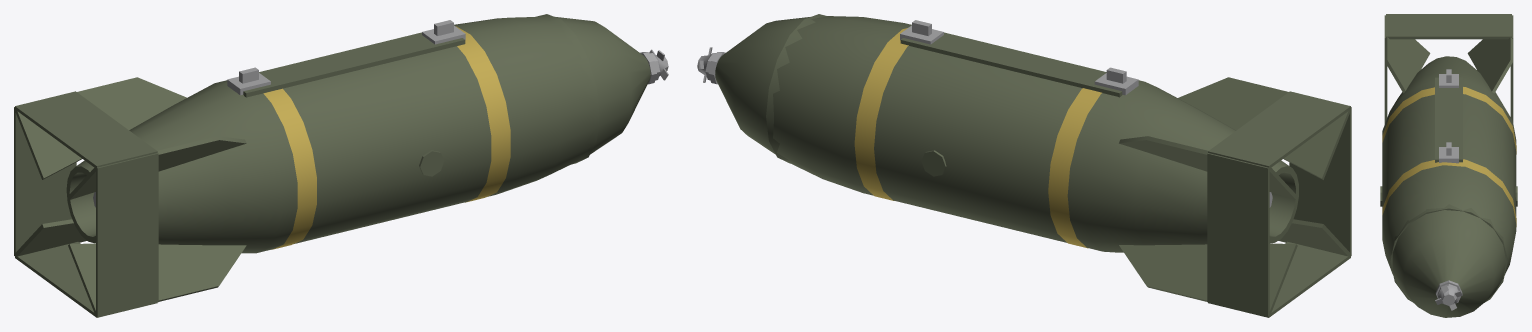
The model's file is bombs_4.glb.
3 views of the same model, side by side, from view 1: azimuth 30°, elevation 25°; view 2: azimuth 150°, elevation 25°; view 3: azimuth 270°, elevation 25° (orthographic). The views are drawn at different scales.
Visible parts, largest first — view 1: bombs_4; view 2: bombs_4; view 3: bombs_4.
Boxes of the visible parts, box(x1,y1,x2,y2) form: bombs_4: box(14, 14, 668, 317); bombs_4: box(697, 14, 1351, 317); bombs_4: box(1380, 14, 1517, 317).
Size of the model in its own units: 0.8 by 0.2183 by 0.204.
